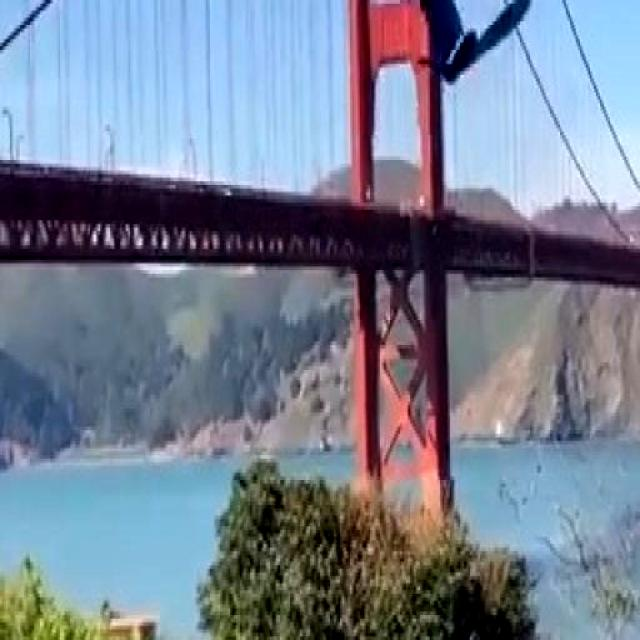airplane: (405, 0, 544, 99)
